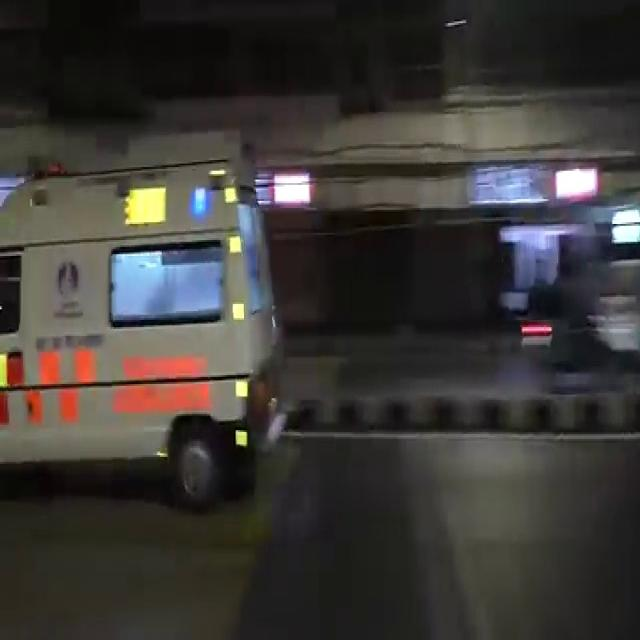ambulance: (0, 174, 282, 498)
